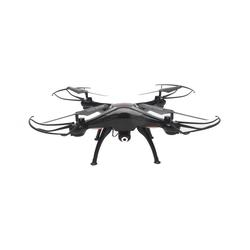drone: (28, 85, 221, 166)
